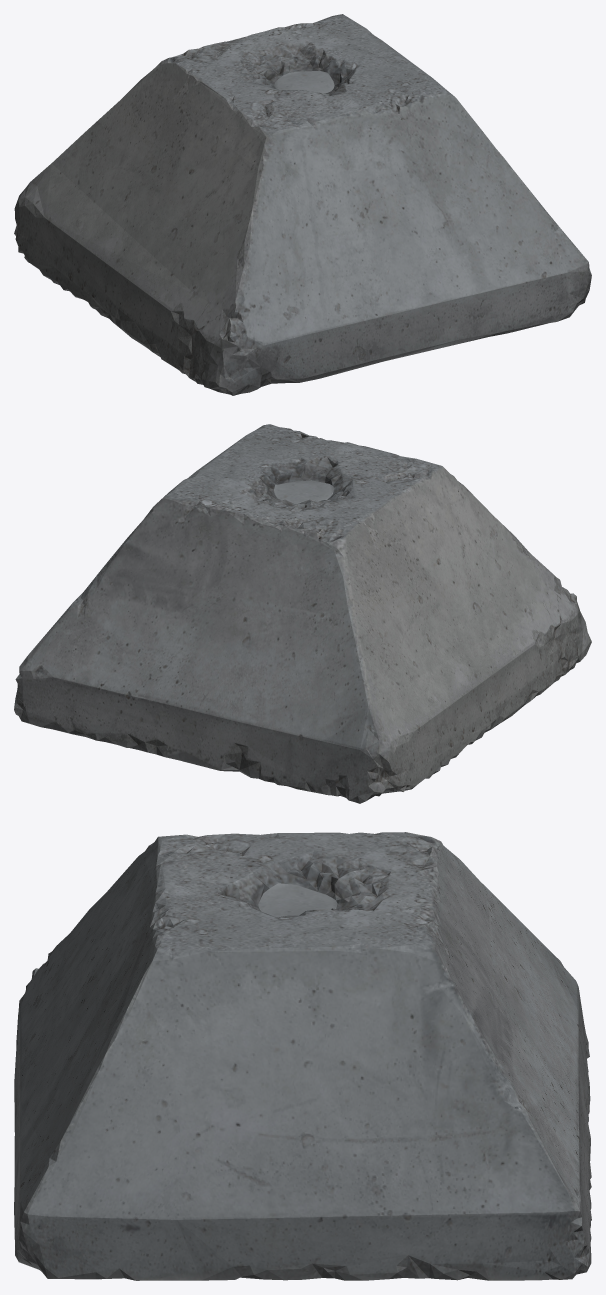
File: Concrete Block.fbx
3 renders of one model, top to bottom at view 1: azimuth 30°, elevation 25°; view 2: azimuth 150°, elevation 25°; view 3: azimuth 270°, elevation 25°, orthographic. The views are drawn at different scales.
Size of the model in its own units: 93.34 by 48.37 by 92.66.
Materials: 1 (1 with a texture image).
